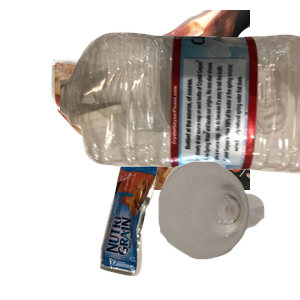glass: (156, 159, 300, 300)
paper: (49, 10, 289, 190)
plastic: (60, 30, 300, 196)
trash: (97, 152, 248, 300)
